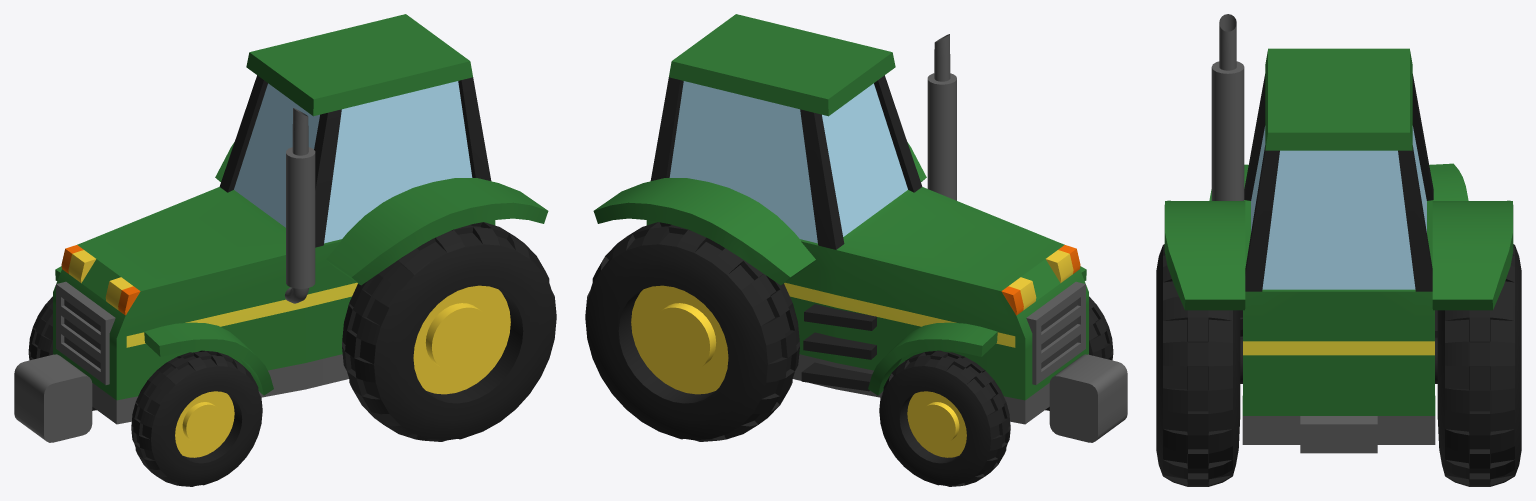
File: tractor.gltf
The picture shows the model from 3 angles, left to right: view 1: azimuth 30°, elevation 25°; view 2: azimuth 150°, elevation 25°; view 3: azimuth 270°, elevation 25°; orthographic projection. The views are drawn at different scales.
Parts seen in each view (by area): view 1: Cube.591, Circle.2385, Circle.2386, Cube.593; view 2: Cube.591, Circle.2385, Circle.2386, Cube.593, Cube.592; view 3: Cube.591, Circle.2385, Circle.2386.
Boxes of the visible parts, left/top/right/bottom form: Cube.591: left=14, top=14, right=548, bottom=442; Circle.2385: left=28, top=222, right=556, bottom=486; Circle.2386: left=285, top=108, right=315, bottom=303; Cube.593: left=56, top=281, right=115, bottom=384; Cube.591: left=593, top=14, right=1127, bottom=442; Circle.2385: left=585, top=222, right=1113, bottom=486; Circle.2386: left=927, top=34, right=956, bottom=200; Cube.593: left=1026, top=281, right=1085, bottom=384; Cube.592: left=801, top=304, right=876, bottom=391; Cube.591: left=1164, top=48, right=1513, bottom=453; Circle.2385: left=1156, top=244, right=1521, bottom=486; Circle.2386: left=1211, top=14, right=1244, bottom=200.
Size of the model in its own units: 2.26 by 1.66 by 1.43.
Materials: 1 (1 with a texture image).
